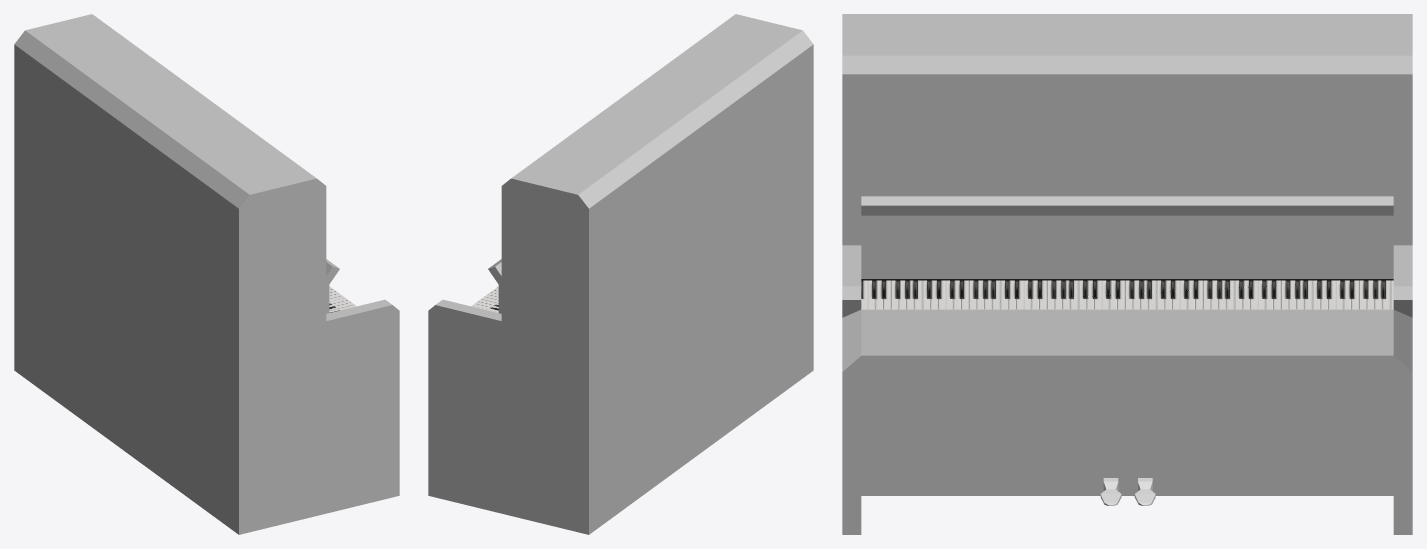
File: пианино.fbx
The picture shows the model from 3 angles, left to right: view 1: azimuth 30°, elevation 25°; view 2: azimuth 150°, elevation 25°; view 3: azimuth 270°, elevation 25°; orthographic projection. The views are drawn at different scales.
Visible parts, largest first — view 1: Cube; view 2: Cube; view 3: Cube, Cube.002.
Part boxes in pixels (x1,y1,x2,y2): Cube: (14, 14, 399, 534); Cube: (428, 14, 813, 534); Cube: (842, 14, 1412, 534); Cube.002: (1100, 478, 1155, 505).
Bounding box in the file's own units: 251 × 503 × 607.
